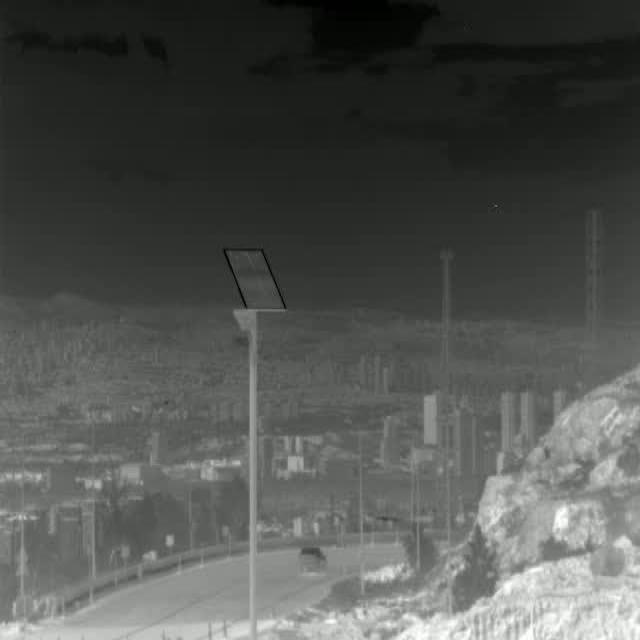Car: (298, 547, 328, 573)
